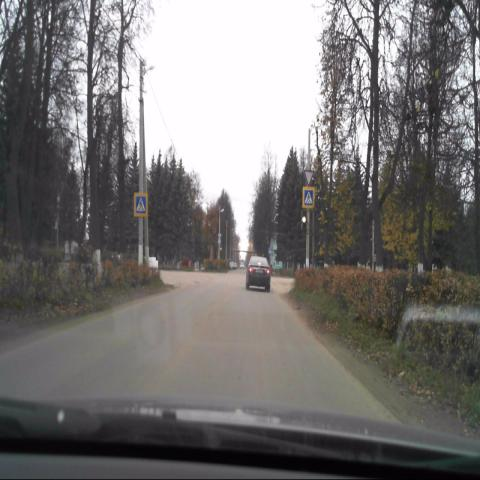2_4: (304, 170, 314, 185)
5_19_1: (133, 193, 148, 217), (302, 187, 315, 209)
